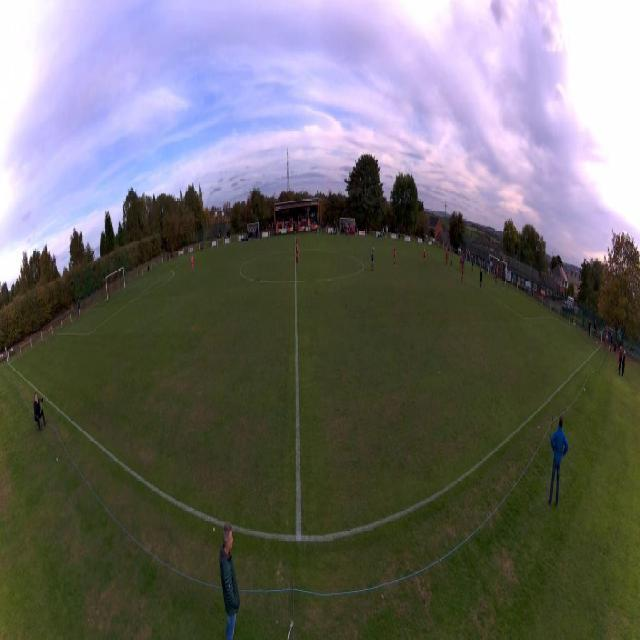ball: (596, 342, 597, 344)
player: (295, 238, 299, 263), (371, 246, 375, 270), (480, 268, 483, 290), (393, 246, 396, 267), (191, 254, 194, 274), (423, 246, 426, 266), (503, 272, 507, 287), (461, 265, 464, 283), (460, 253, 463, 270), (450, 252, 453, 269), (493, 264, 496, 280), (495, 267, 497, 285), (472, 255, 474, 272), (445, 249, 447, 265), (463, 254, 465, 270), (484, 260, 486, 276), (497, 265, 499, 279), (447, 250, 449, 264)
